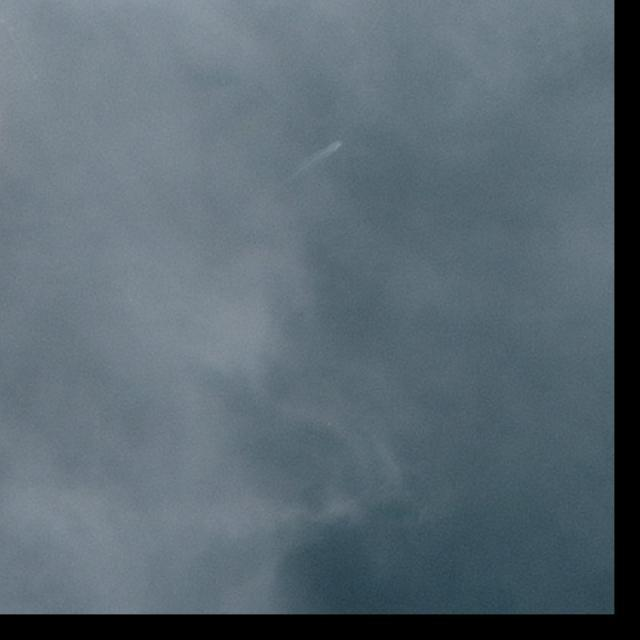ship: (332, 139, 343, 150)
